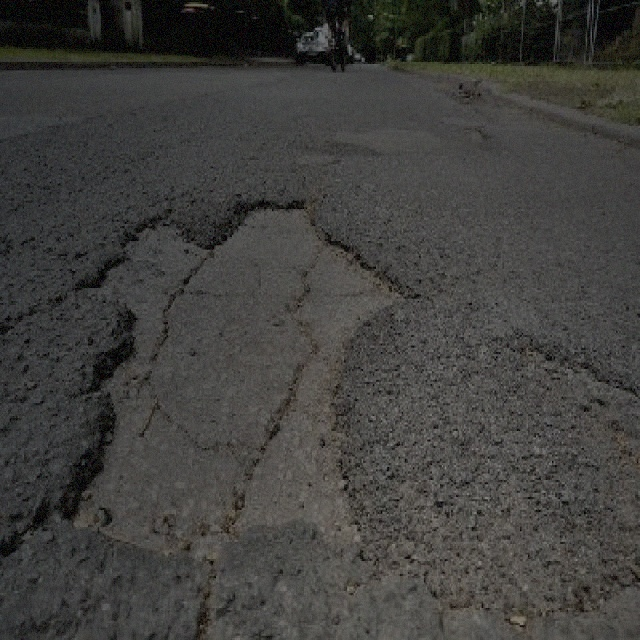pothole: (50, 190, 412, 557)
